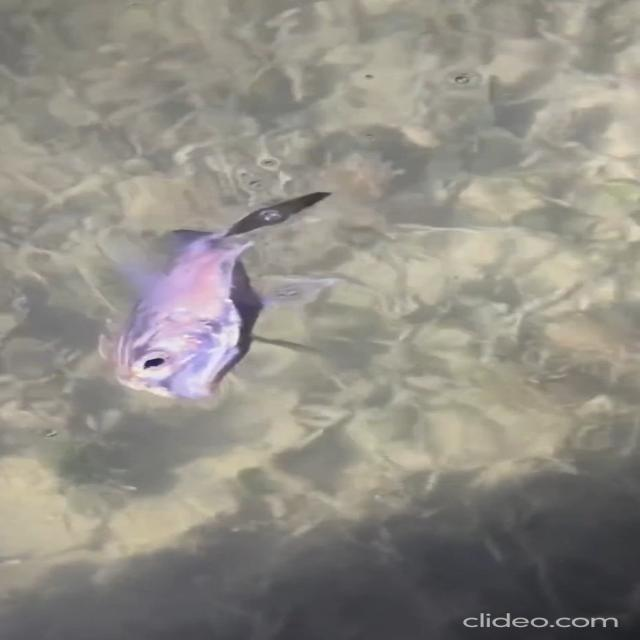fish: (100, 163, 336, 433)
